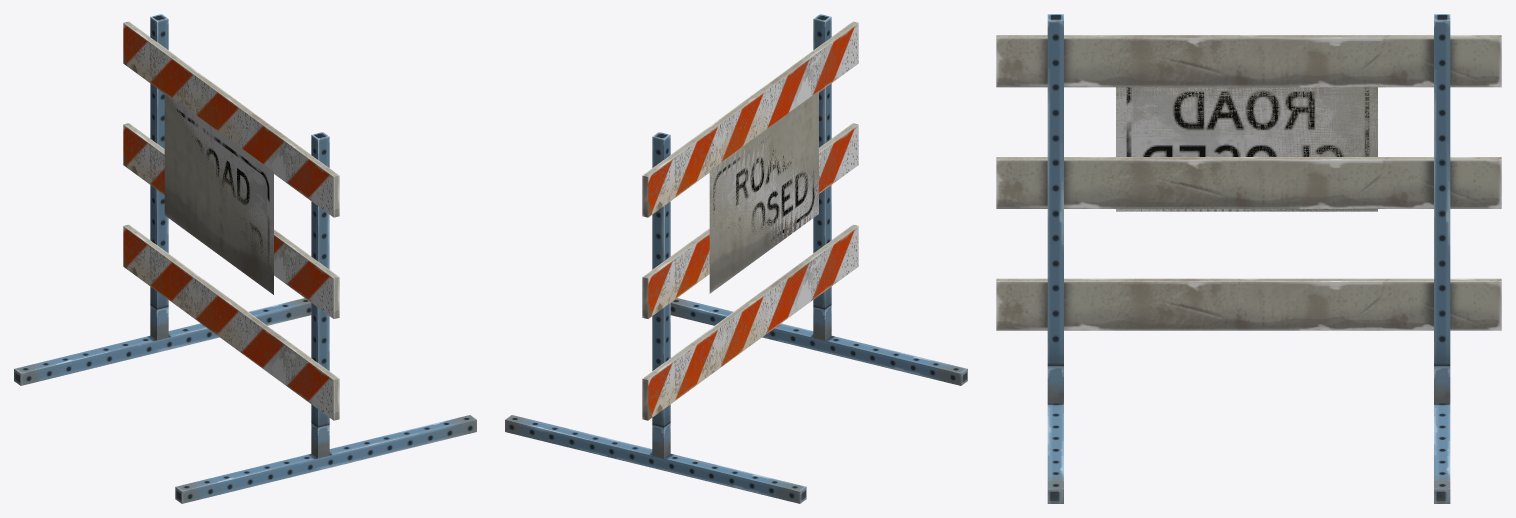
The model's file is trafficBarricade04.fbx.
3 views of the same model, side by side, from view 1: azimuth 30°, elevation 25°; view 2: azimuth 150°, elevation 25°; view 3: azimuth 270°, elevation 25° (orthographic). The views are drawn at different scales.
Parts seen in each view (by area): view 1: trafficBarricade04; view 2: trafficBarricade04; view 3: trafficBarricade04.
Boxes of the visible parts, x1,y1,x2,y2 form: trafficBarricade04: (14,14,476,503); trafficBarricade04: (505,14,967,503); trafficBarricade04: (996,14,1501,503).
Size of the model in its own units: 152 by 163 by 188.
